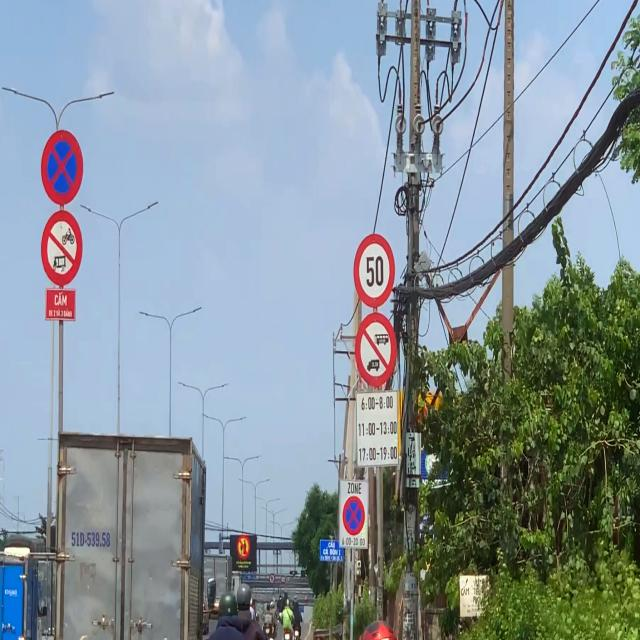Cam dung va do: (39, 126, 85, 209), (342, 494, 366, 536)
Toc do toi da: (353, 232, 396, 309)
